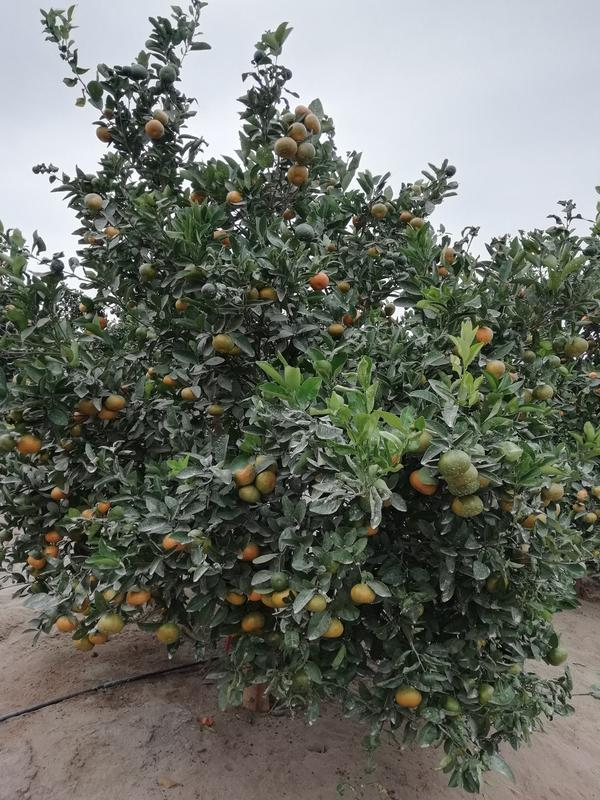mandarina naranja: (395, 688, 422, 707), (158, 624, 179, 644), (289, 165, 309, 185), (242, 613, 265, 630), (17, 436, 41, 452), (145, 120, 165, 139), (289, 122, 307, 141), (57, 617, 79, 632), (240, 543, 258, 561), (305, 114, 321, 134), (105, 396, 126, 411), (126, 592, 150, 605), (84, 193, 103, 209), (237, 469, 255, 485), (476, 326, 494, 342), (312, 274, 330, 290), (88, 631, 108, 644), (26, 556, 44, 568), (228, 190, 242, 204), (400, 212, 414, 224), (46, 532, 62, 542), (51, 487, 64, 499), (44, 545, 59, 555)
mandarina verde: (453, 496, 485, 518), (440, 452, 469, 475), (98, 613, 125, 634), (446, 469, 479, 484), (275, 137, 297, 159), (565, 336, 588, 356), (351, 585, 375, 603), (296, 142, 316, 163), (213, 334, 233, 354), (256, 473, 276, 492), (272, 573, 290, 593), (449, 484, 481, 495), (325, 619, 343, 638), (534, 384, 553, 402), (295, 224, 314, 242), (544, 483, 564, 500), (239, 486, 260, 502), (308, 595, 326, 612), (550, 648, 568, 665), (487, 360, 506, 376), (274, 590, 290, 607), (201, 283, 218, 298), (139, 265, 156, 279), (1, 435, 14, 452), (481, 684, 493, 702), (372, 204, 388, 217), (208, 404, 225, 415), (181, 388, 195, 400), (330, 325, 345, 336), (445, 164, 456, 176), (385, 260, 396, 271), (585, 513, 597, 522), (385, 305, 395, 315)
